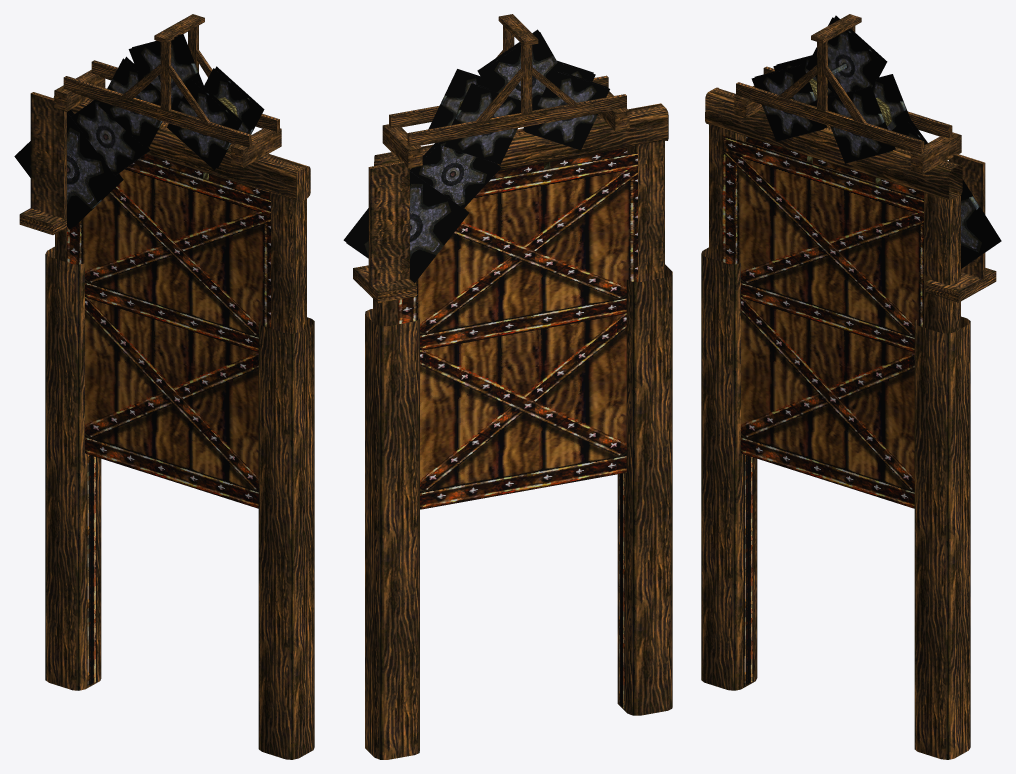
The model's file is CINE11_GANDALFANDBILBOREUNITED_SHOT03_GATEA.fbx.
The picture shows the model from 3 angles, left to right: view 1: azimuth 90°, elevation 25°; view 2: azimuth 150°, elevation 25°; view 3: azimuth 270°, elevation 25°; orthographic projection.
Visible parts, largest first — view 1: CINE11_GANDALFANDBILBOREUNITED_SHOT03_GATEA; view 2: CINE11_GANDALFANDBILBOREUNITED_SHOT03_GATEA; view 3: CINE11_GANDALFANDBILBOREUNITED_SHOT03_GATEA.
Part boxes in pixels (x1=…): CINE11_GANDALFANDBILBOREUNITED_SHOT03_GATEA: x1=14, y1=14, x2=314, y2=759; CINE11_GANDALFANDBILBOREUNITED_SHOT03_GATEA: x1=343, y1=14, x2=672, y2=759; CINE11_GANDALFANDBILBOREUNITED_SHOT03_GATEA: x1=701, y1=14, x2=1001, y2=759.
Bounding box in the file's own units: 24671 × 82575 × 32661.
Materials: 7 (7 with a texture image).
